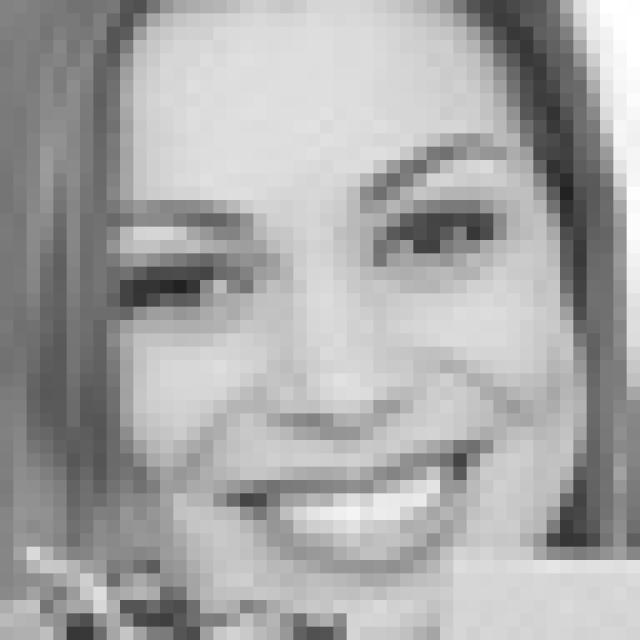happy: (103, 126, 536, 586)
